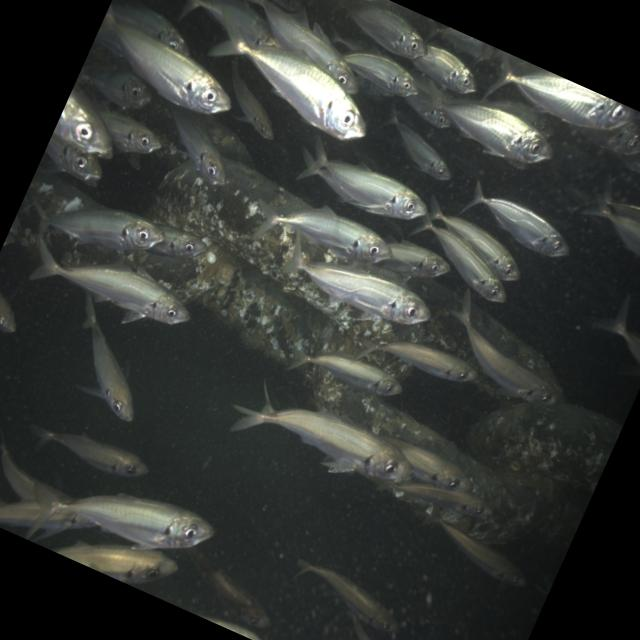ChainLink: (153, 160, 399, 343), (126, 243, 327, 366), (325, 385, 484, 488), (470, 403, 622, 493), (470, 305, 564, 403), (499, 469, 592, 551), (412, 281, 472, 360), (477, 481, 502, 510), (476, 373, 497, 390)
